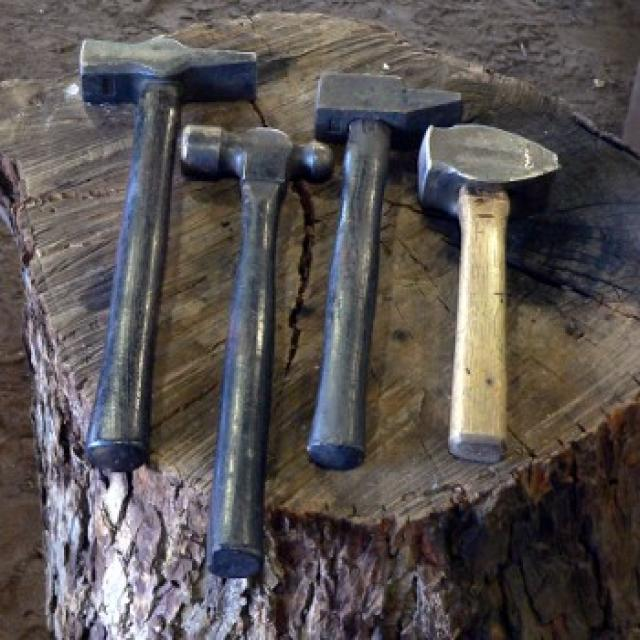hammer: (61, 26, 270, 481), (166, 121, 342, 584), (300, 62, 472, 482), (408, 113, 562, 474)
